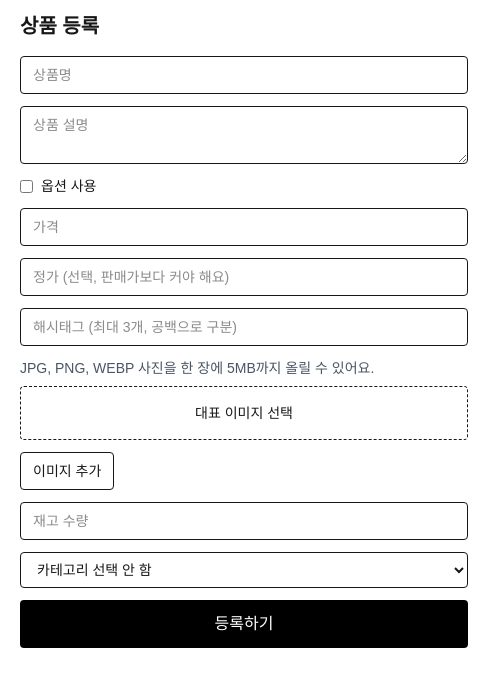
Test case: AdminProductForm 이미지 올리기 › 실패: 대표 이미지가 없으면 안내와 함께 대표 이미지 선택으로 포커스가 가고 요청하지 않는다
Type "린넨 셔츠" into the field labelled "상품명".
click(244, 75); type("린넨 셔츠")  # box [20,56,468,94]
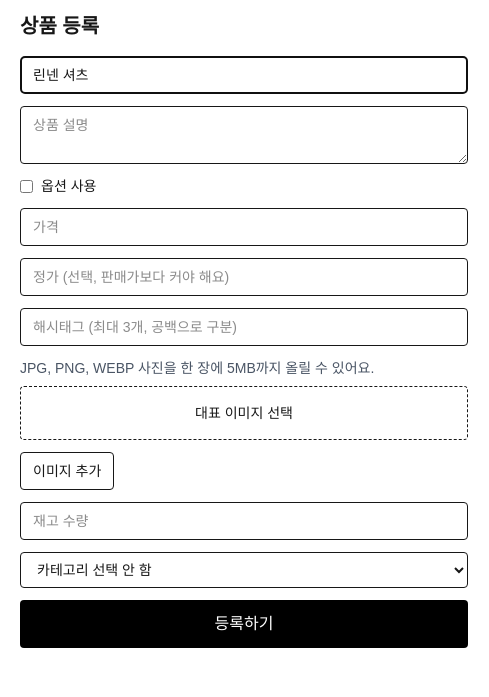
Type "시원한 셔츠" into the text box labelled "상품 설명".
click(244, 135); type("시원한 셔츠")  # box [20,106,468,164]
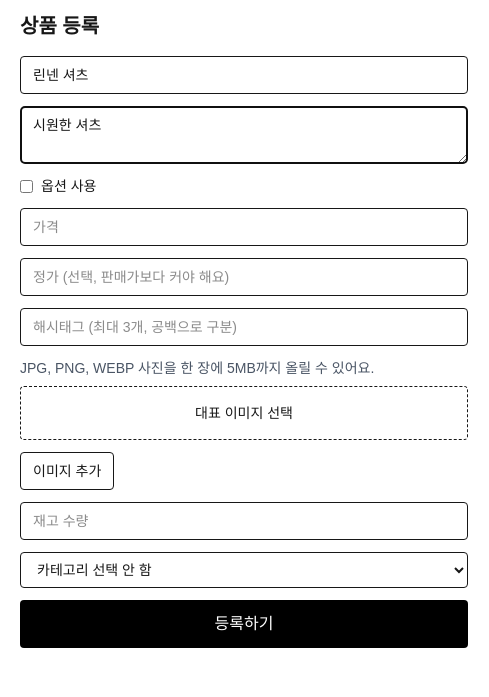
Type "8000" into the number field labelled "가격".
click(244, 227); type("8000")  # box [20,208,468,246]
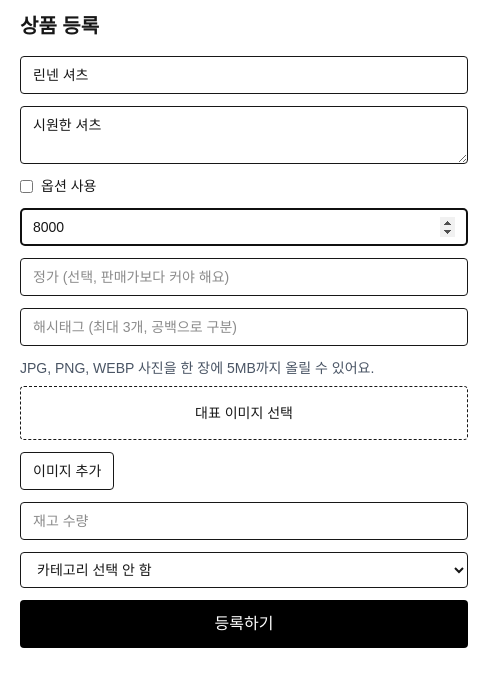
Type "5" into the number field labelled "재고 수량".
click(244, 521); type("5")  # box [20,502,468,540]
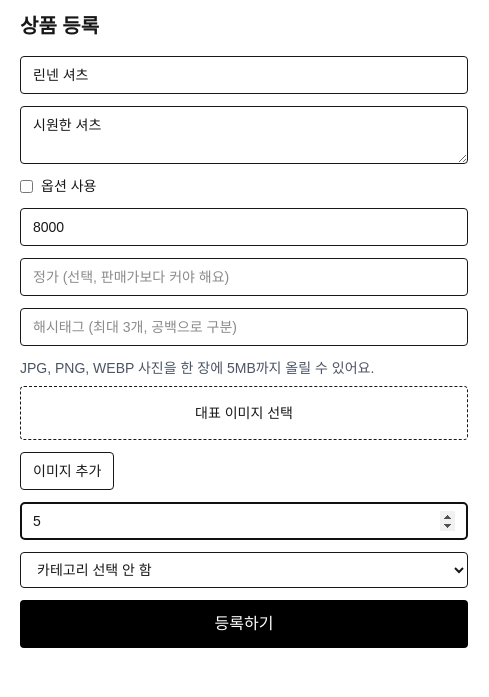
Click the button "등록하기".
click(244, 624)  # box [20,600,468,648]
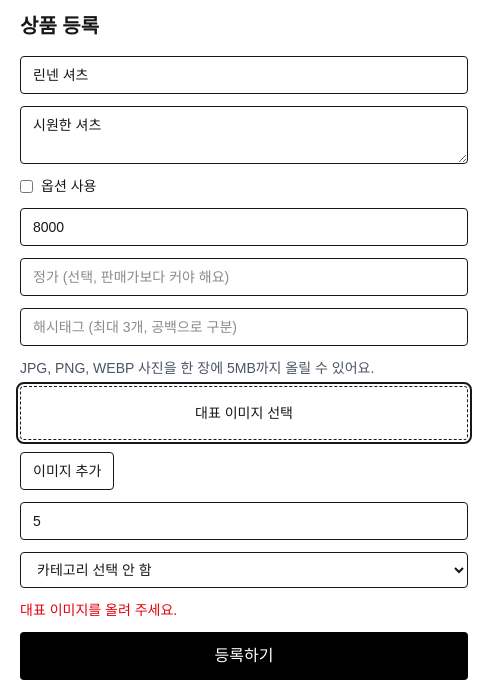
Check: the message reads "대표 이미지를 올려 주세요.", box [20,602,177,618]
